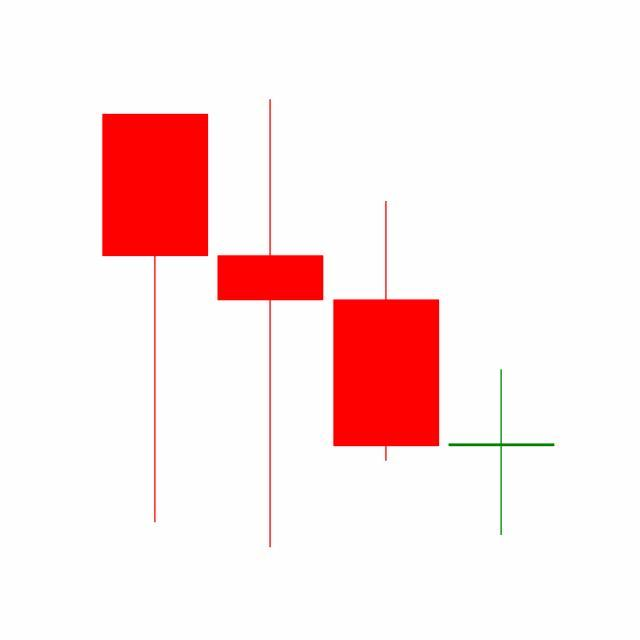Spinning Top: (444, 368, 560, 538)
